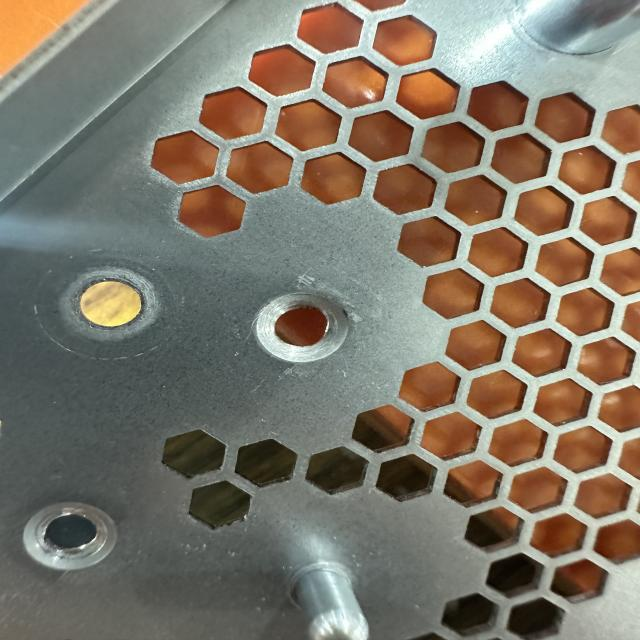Missing screw: (246, 283, 364, 370), (17, 496, 128, 578)
